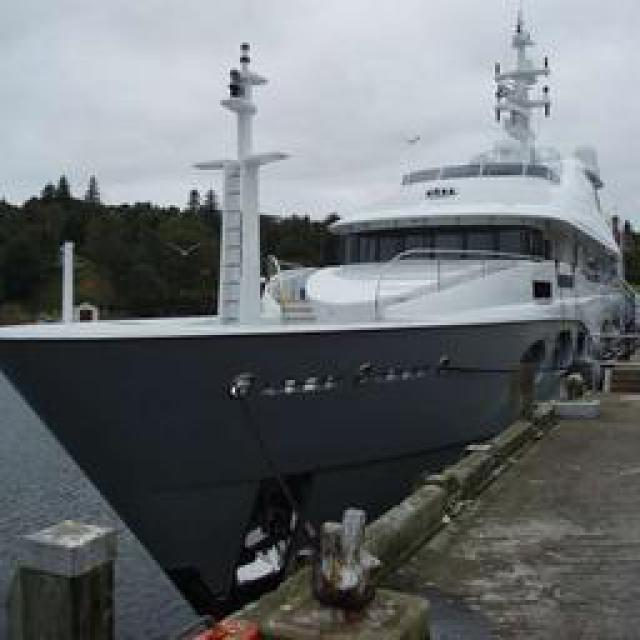Ship: (17, 55, 627, 590)
